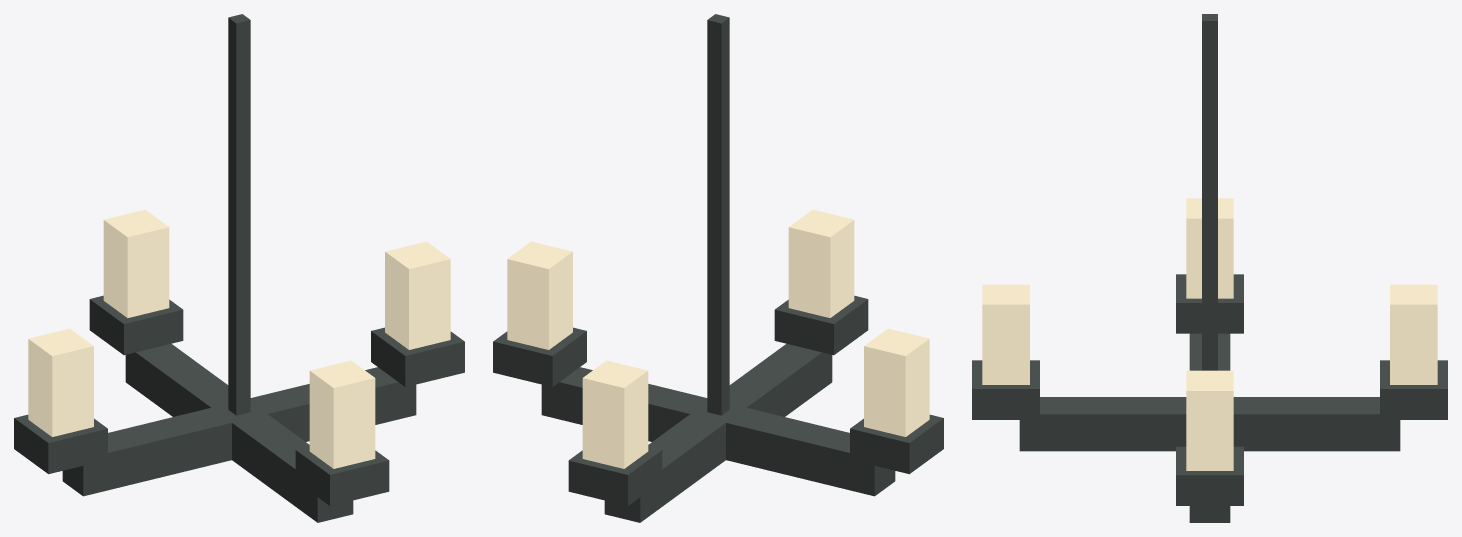
File: lustre_ferro.glb
The picture shows the model from 3 angles, left to right: view 1: azimuth 30°, elevation 25°; view 2: azimuth 150°, elevation 25°; view 3: azimuth 270°, elevation 25°; orthographic projection.
Visible parts, largest first — view 1: Malha_0; view 2: Malha_0; view 3: Malha_0.
Boxes of the visible parts, bbox=[...] form: Malha_0: bbox=[14, 14, 464, 522]; Malha_0: bbox=[493, 14, 943, 522]; Malha_0: bbox=[972, 14, 1447, 522].
Size of the model in its own units: 0.7 by 0.69 by 0.7.
